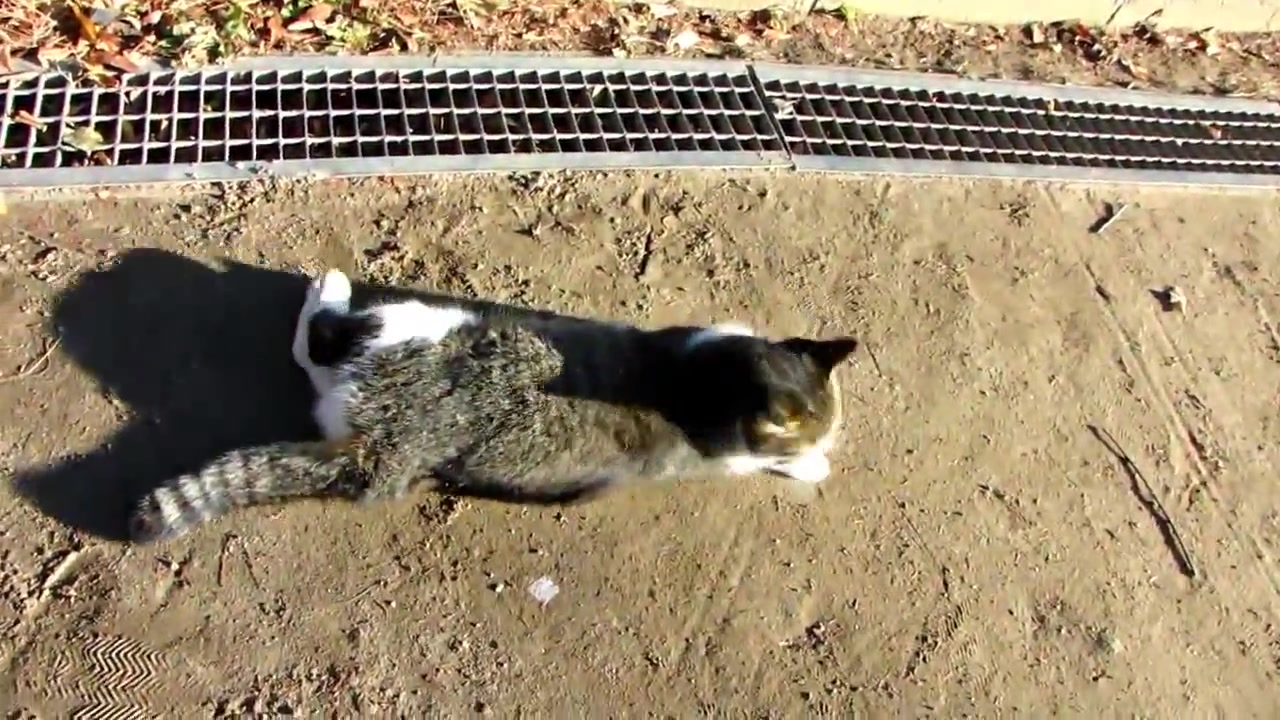cat: (118, 267, 860, 549)
